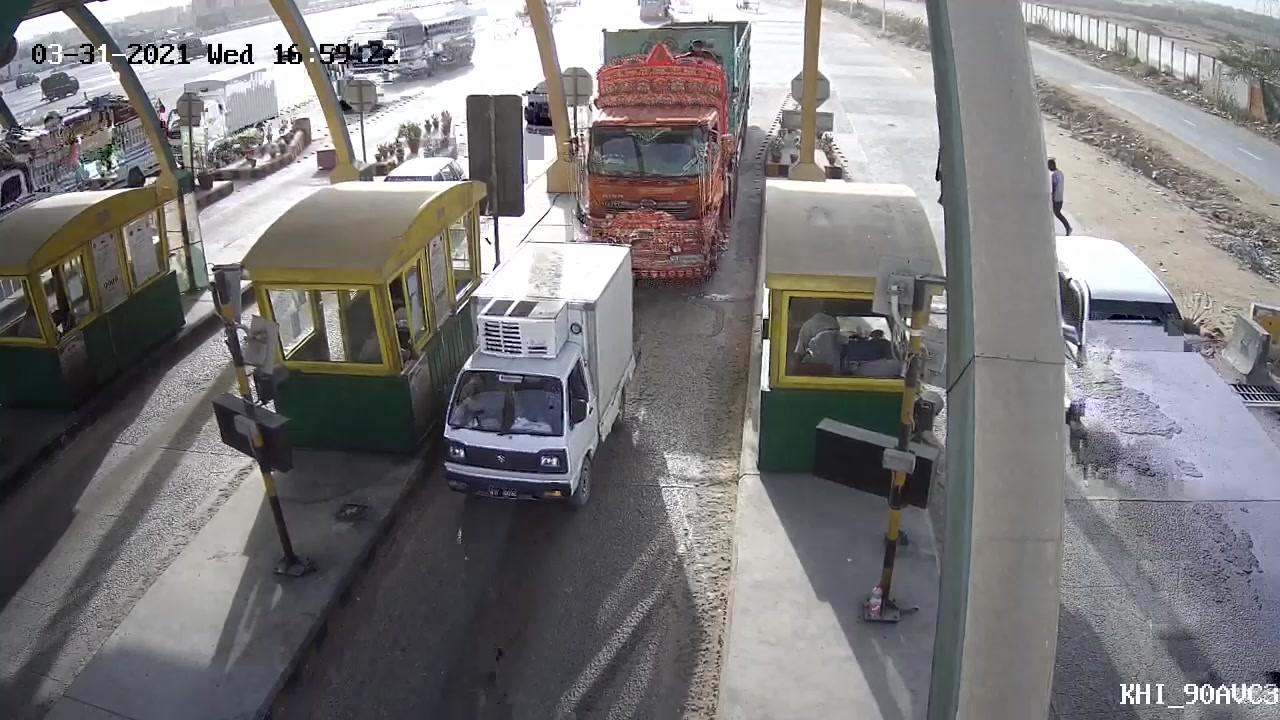F1: (430, 242, 642, 509)
F6: (570, 9, 764, 285)
